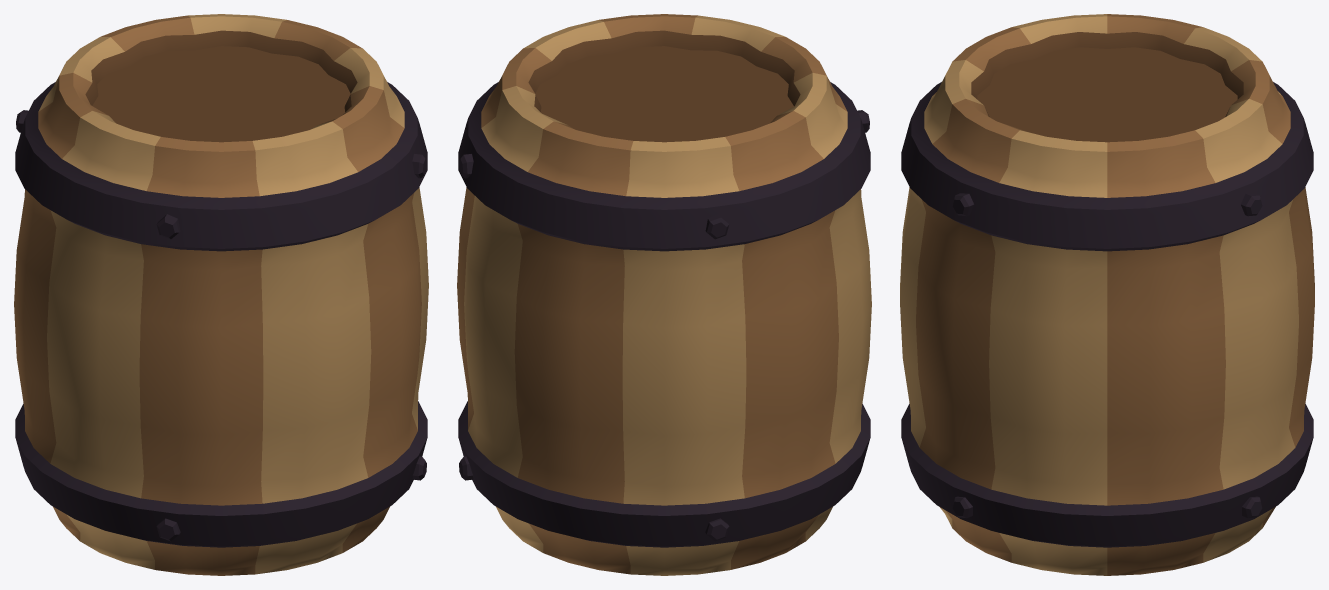
Rendered from Barrel_04.glb.
3 renders of one model, left to right at view 1: azimuth 30°, elevation 25°; view 2: azimuth 150°, elevation 25°; view 3: azimuth 270°, elevation 25°, orthographic.
Visible parts, largest first — view 1: Barrel_04; view 2: Barrel_04; view 3: Barrel_04.
Boxes of the visible parts, x1,y1,x2,y2 form: Barrel_04: (14,14,428,575); Barrel_04: (457,14,871,575); Barrel_04: (900,14,1314,575).
Size of the model in its own units: 2.05 by 2.35 by 2.05.
